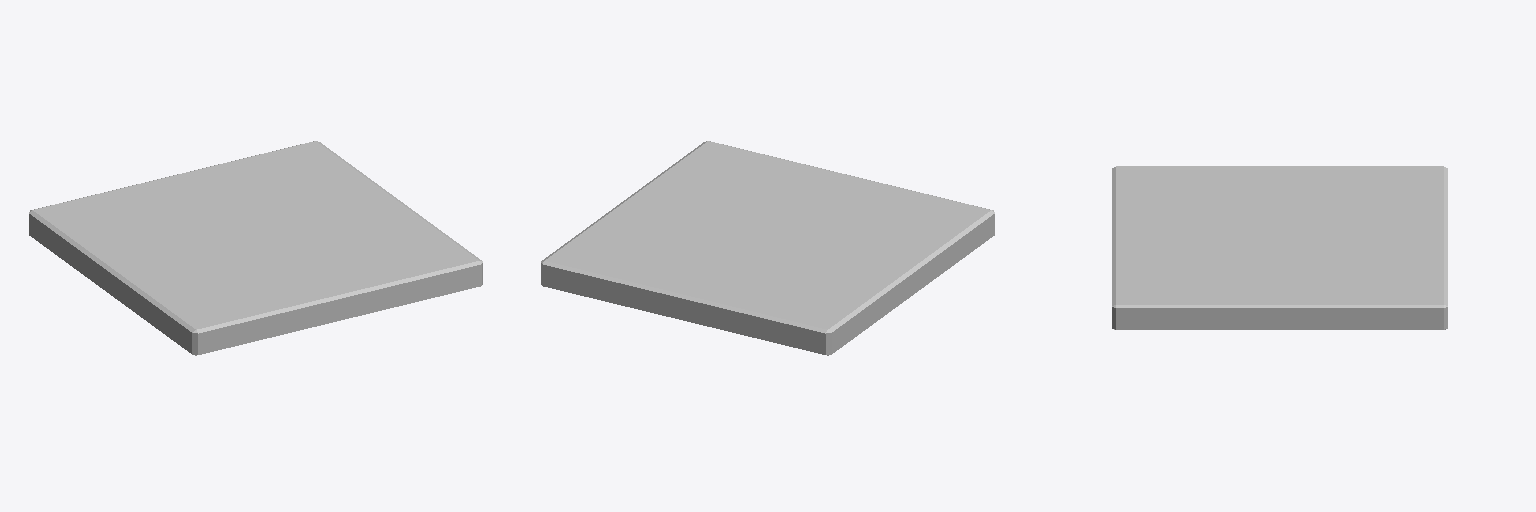
File: lightskitchen.obj
3 views of the same model, side by side, from view 1: azimuth 30°, elevation 25°; view 2: azimuth 150°, elevation 25°; view 3: azimuth 270°, elevation 25° (orthographic).
Parts seen in each view (by area): view 1: Cylinder.007_Cylinder.009; view 2: Cylinder.007_Cylinder.009; view 3: Cylinder.007_Cylinder.009.
Part boxes in pixels (x1,y1,x2,y2): Cylinder.007_Cylinder.009: (29, 141, 482, 355); Cylinder.007_Cylinder.009: (541, 141, 994, 355); Cylinder.007_Cylinder.009: (1112, 166, 1447, 329).
Bounding box in the file's own units: 0.15 × 0.0203 × 0.15.